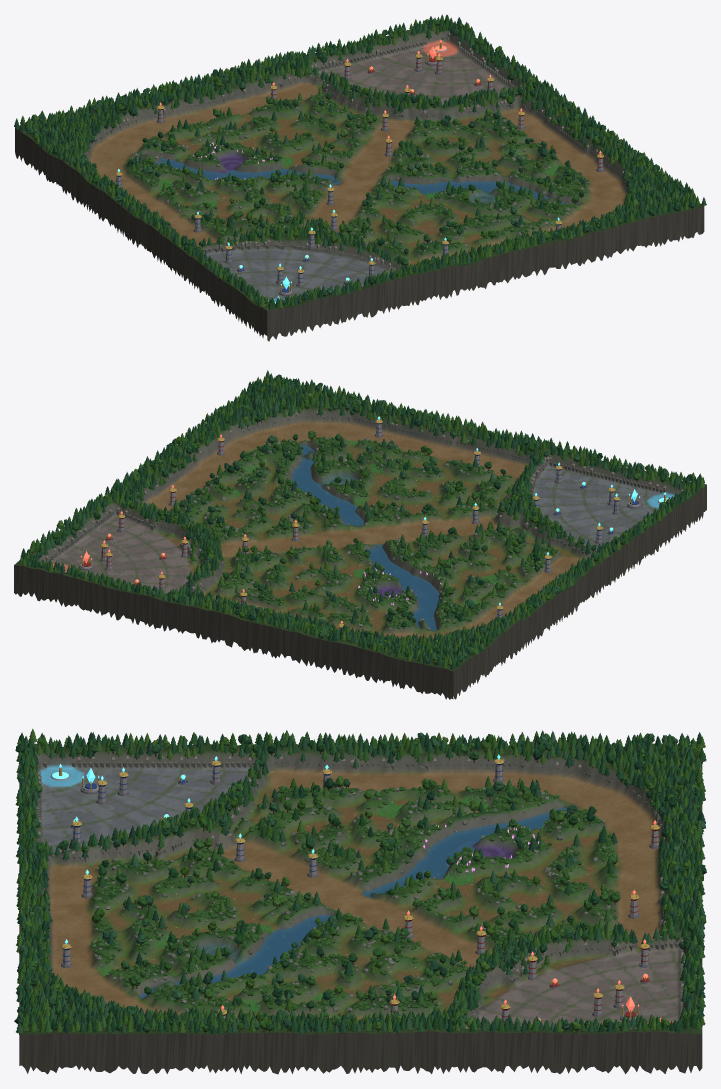
Rendered from summoners_rift.glb.
3 renders of one model, top to bottom at view 1: azimuth 30°, elevation 25°; view 2: azimuth 150°, elevation 25°; view 3: azimuth 270°, elevation 25°, orthographic. The views are drawn at different scales.
Parts seen in each view (by area): view 1: Terrain, Trees, Walls, Rocks, Water, Brush; view 2: Terrain, Trees, Water, Rocks, Walls, Brush; view 3: Terrain, Trees, Rocks, Water, Walls, Brush.
Part boxes in pixels (x1=…): Terrain: x1=15, y1=22, x2=704, y2=341; Trees: x1=14, y1=14, x2=706, y2=309; Walls: x1=87, y1=32, x2=627, y2=271; Rocks: x1=132, y1=94, x2=589, y2=255; Water: x1=138, y1=158, x2=577, y2=204; Brush: x1=158, y1=134, x2=590, y2=225; Terrain: x1=14, y1=383, x2=706, y2=699; Trees: x1=19, y1=370, x2=704, y2=670; Water: x1=292, y1=445, x2=439, y2=630; Rocks: x1=178, y1=437, x2=559, y2=630; Walls: x1=45, y1=411, x2=685, y2=591; Brush: x1=227, y1=439, x2=501, y2=629; Terrain: x1=19, y1=741, x2=702, y2=1074; Trees: x1=14, y1=728, x2=706, y2=1034; Rocks: x1=91, y1=787, x2=619, y2=1012; Water: x1=140, y1=808, x2=566, y2=998; Walls: x1=36, y1=756, x2=685, y2=1030; Brush: x1=97, y1=795, x2=552, y2=1015.
Size of the model in its own units: 195 by 18.36 by 195.
